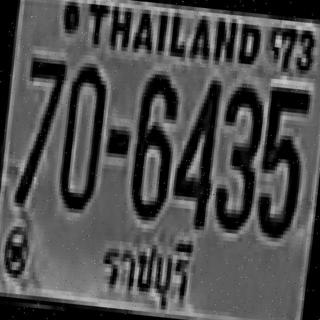N00: (55, 59, 106, 208)
N03: (210, 82, 264, 231)
N04: (168, 73, 220, 226)
N05: (253, 82, 309, 236)
N06: (128, 69, 179, 218)
N07: (14, 53, 66, 206)
P52: (91, 224, 198, 316)
